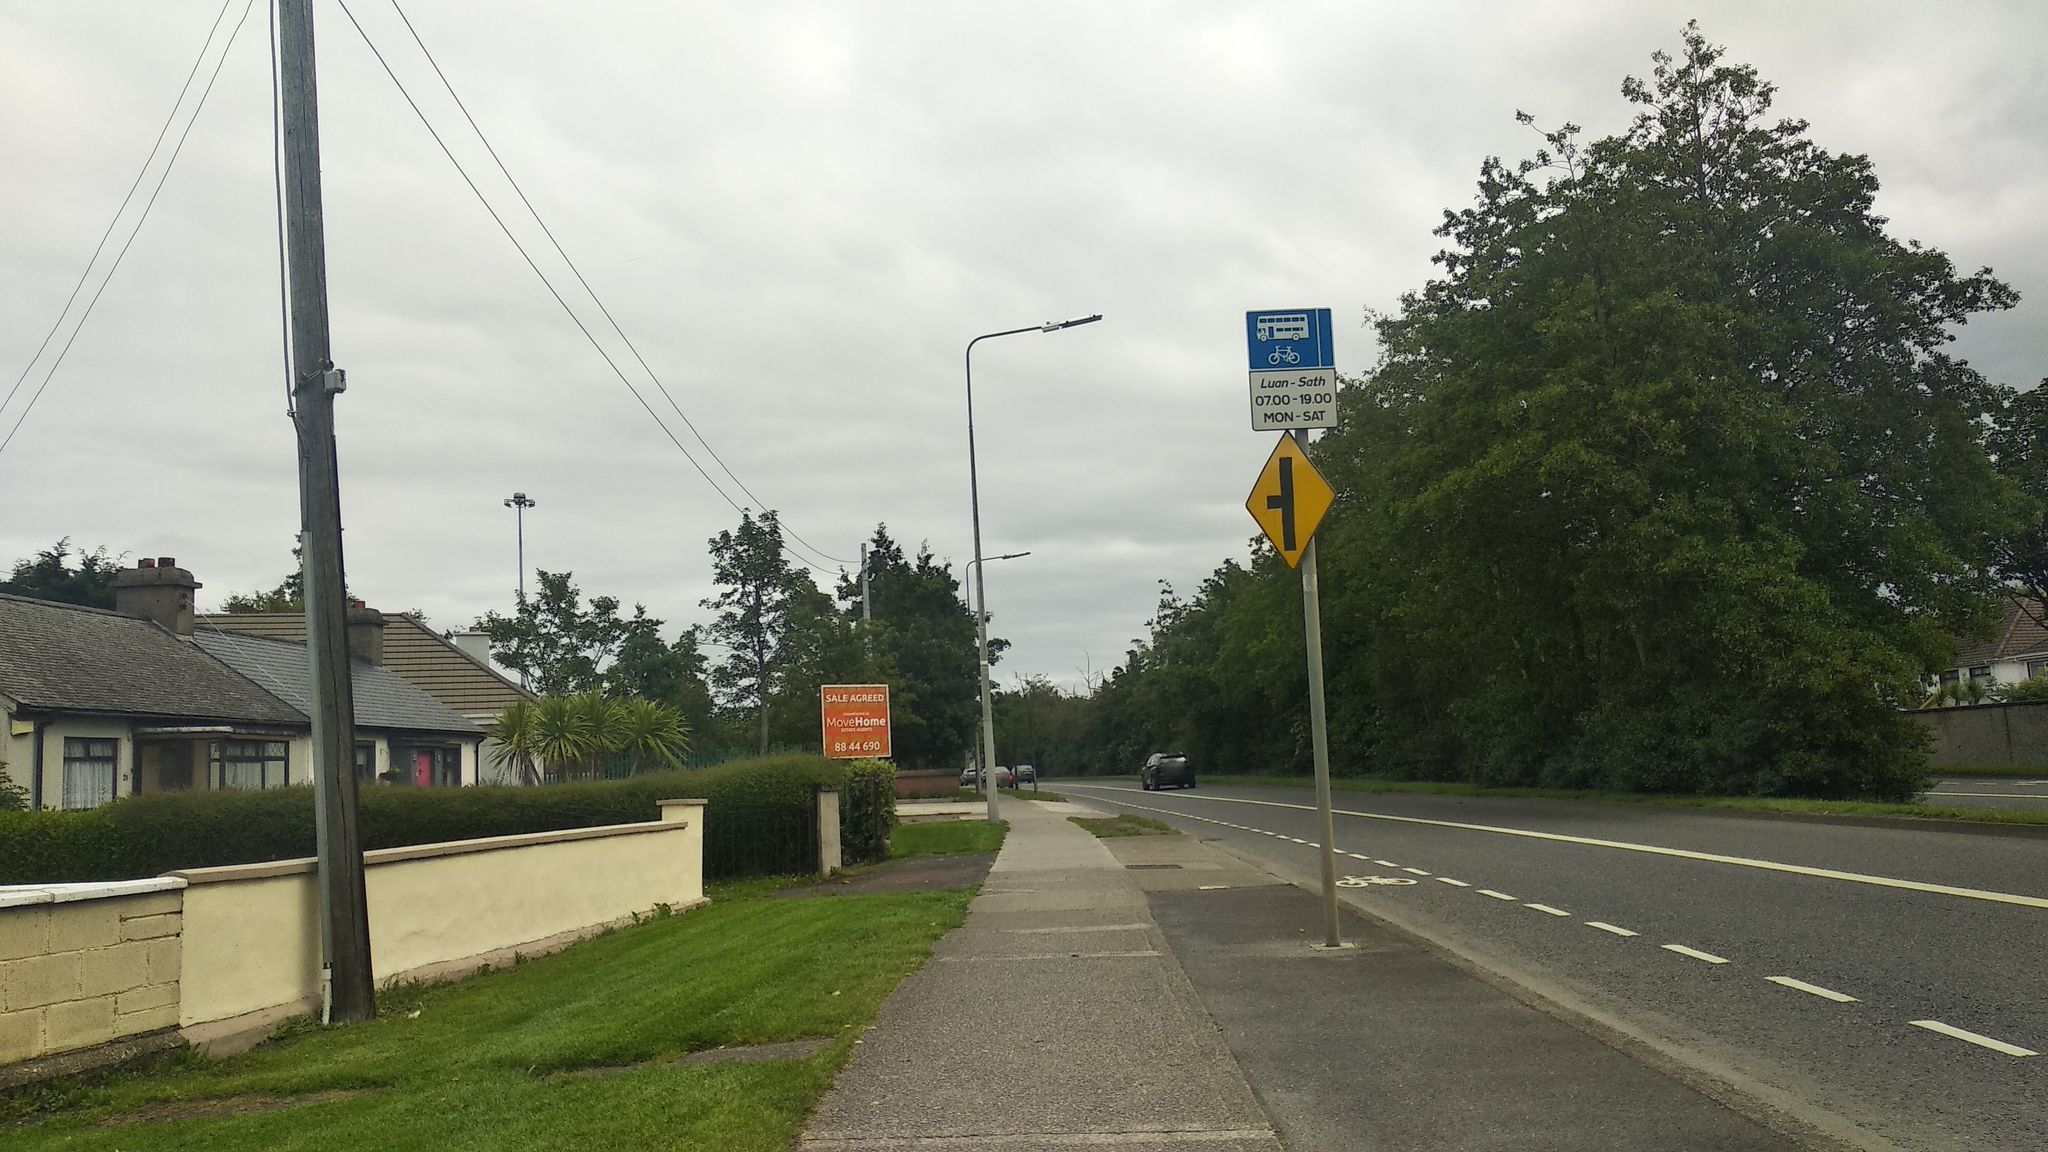property sign: (809, 672, 900, 775)
